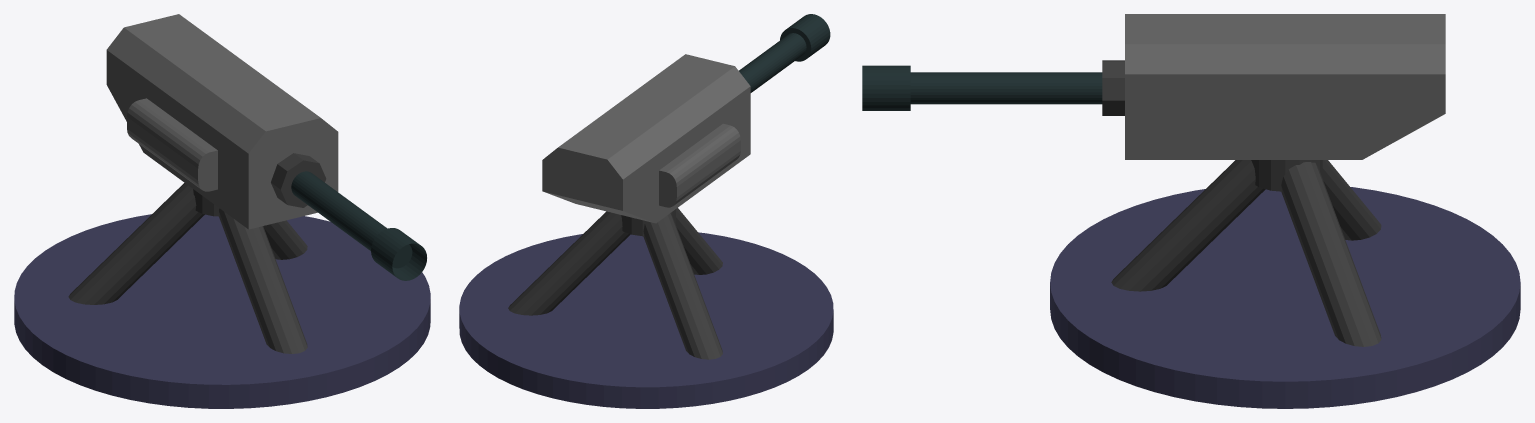
3 renders of one model, left to right at view 1: azimuth 30°, elevation 25°; view 2: azimuth 150°, elevation 25°; view 3: azimuth 270°, elevation 25°, orthographic. The views are drawn at different scales.
Parts seen in each view (by area): view 1: Цилиндр.003, Куб, Цилиндр.004, Цилиндр, Куб.001, Цилиндр.006, Цилиндр.007, Цилиндр.008, Цилиндр.002, Цилиндр.005; view 2: Цилиндр.003, Куб, Цилиндр.004, Цилиндр.002, Куб.001, Цилиндр.006, Цилиндр, Цилиндр.007, Цилиндр.005; view 3: Цилиндр.003, Куб, Цилиндр.002, Цилиндр, Цилиндр.006, Цилиндр.004, Цилиндр.007, Цилиндр.008, Цилиндр.005.
Boxes of the visible parts, bbox=[...] form: Цилиндр.003: bbox=[14, 214, 430, 408]; Куб: bbox=[106, 14, 338, 229]; Цилиндр.004: bbox=[68, 183, 204, 304]; Цилиндр: bbox=[219, 208, 307, 353]; Куб.001: bbox=[127, 98, 217, 191]; Цилиндр.006: bbox=[291, 171, 412, 268]; Цилиндр.007: bbox=[371, 228, 426, 280]; Цилиндр.008: bbox=[271, 153, 326, 207]; Цилиндр.002: bbox=[263, 220, 307, 259]; Цилиндр.005: bbox=[193, 189, 219, 216]; Цилиндр.003: bbox=[459, 232, 833, 408]; Куб: bbox=[542, 54, 750, 223]; Цилиндр.004: bbox=[643, 213, 722, 359]; Цилиндр.002: bbox=[508, 211, 630, 315]; Куб.001: bbox=[659, 123, 740, 207]; Цилиндр.006: bbox=[739, 33, 806, 92]; Цилиндр: bbox=[676, 208, 722, 274]; Цилиндр.007: bbox=[780, 14, 830, 61]; Цилиндр.005: bbox=[621, 209, 675, 236]; Цилиндр.003: bbox=[1050, 187, 1520, 408]; Куб: bbox=[1125, 14, 1445, 159]; Цилиндр.002: bbox=[1281, 162, 1381, 346]; Цилиндр: bbox=[1111, 160, 1265, 291]; Цилиндр.006: bbox=[910, 72, 1102, 104]; Цилиндр.004: bbox=[1322, 160, 1381, 240]; Цилиндр.007: bbox=[862, 65, 910, 110]; Цилиндр.008: bbox=[1102, 60, 1124, 115]; Цилиндр.005: bbox=[1251, 160, 1322, 191].
Size of the model in its own units: 1.66 by 1.11 by 2.32.
